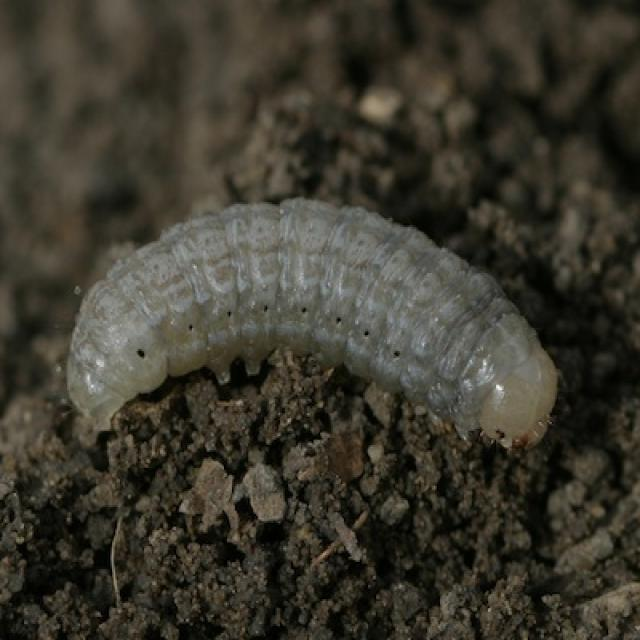Cutworm: (63, 198, 559, 470)
